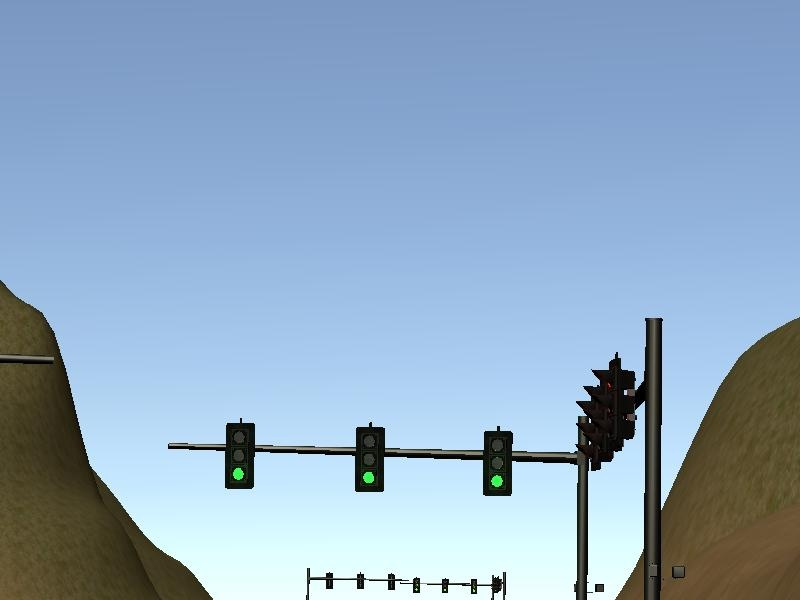GREEN: (225, 423, 254, 490), (483, 430, 512, 495), (356, 427, 384, 491)
